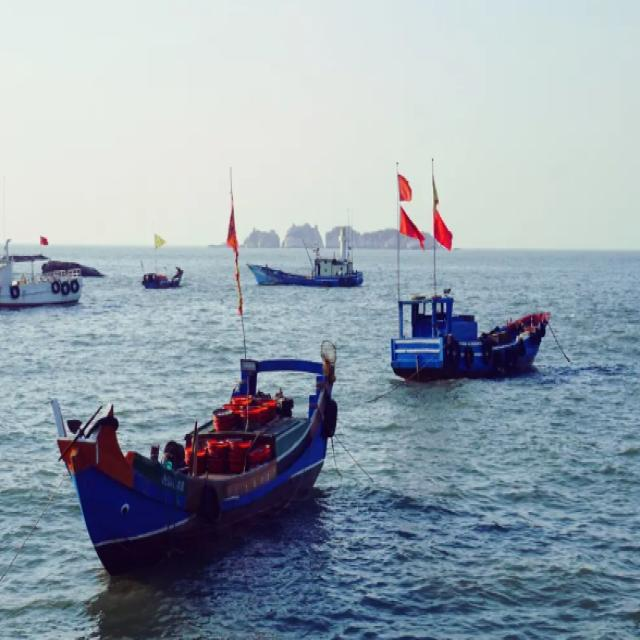fishing boat: (59, 335, 347, 571), (388, 282, 550, 384), (248, 200, 362, 285), (0, 233, 87, 312), (136, 234, 186, 289)
